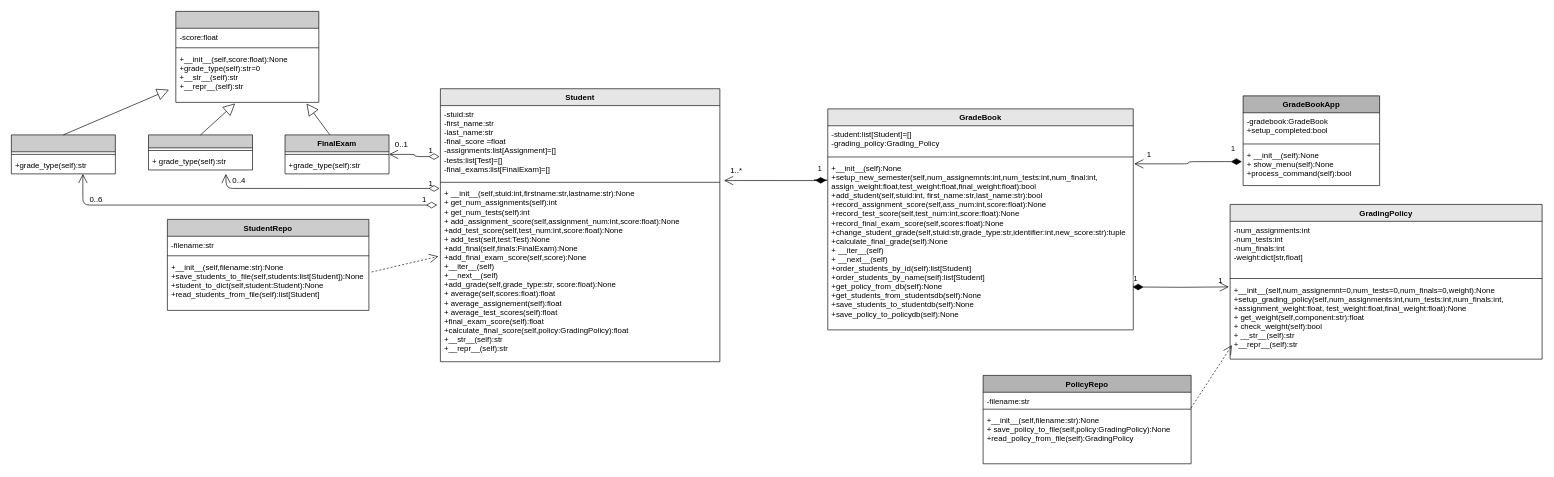
The diagram is 1554 pixels wide and 477 high, and some of its shapes have lost their labels. The shapes that lost their labels are listed below. From the top down, each one's box as (x1, y1, x2, y2) in pixels, then its label:
(175, 11, 319, 102): GradeItem(ABC)
(11, 134, 115, 174): Assignment
(148, 134, 253, 170): Test
